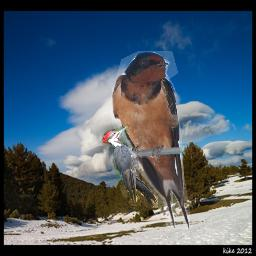Swallow: (111, 51, 190, 230)
Woodpecker: (102, 126, 158, 208)
